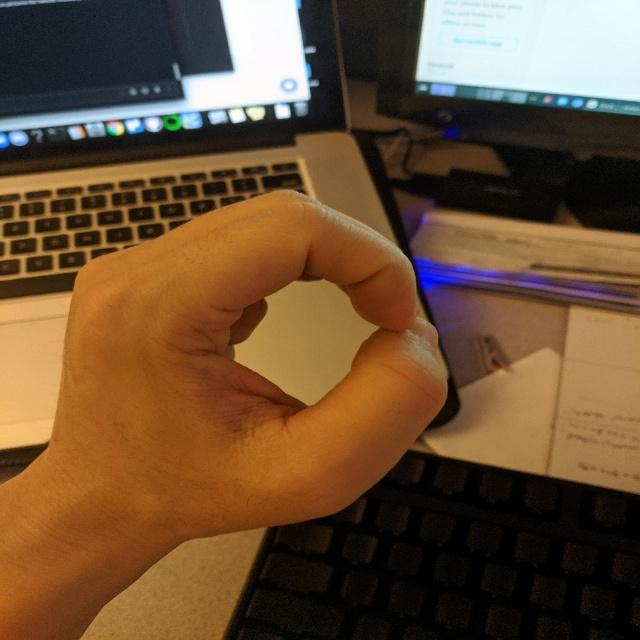O: (43, 184, 461, 540)
